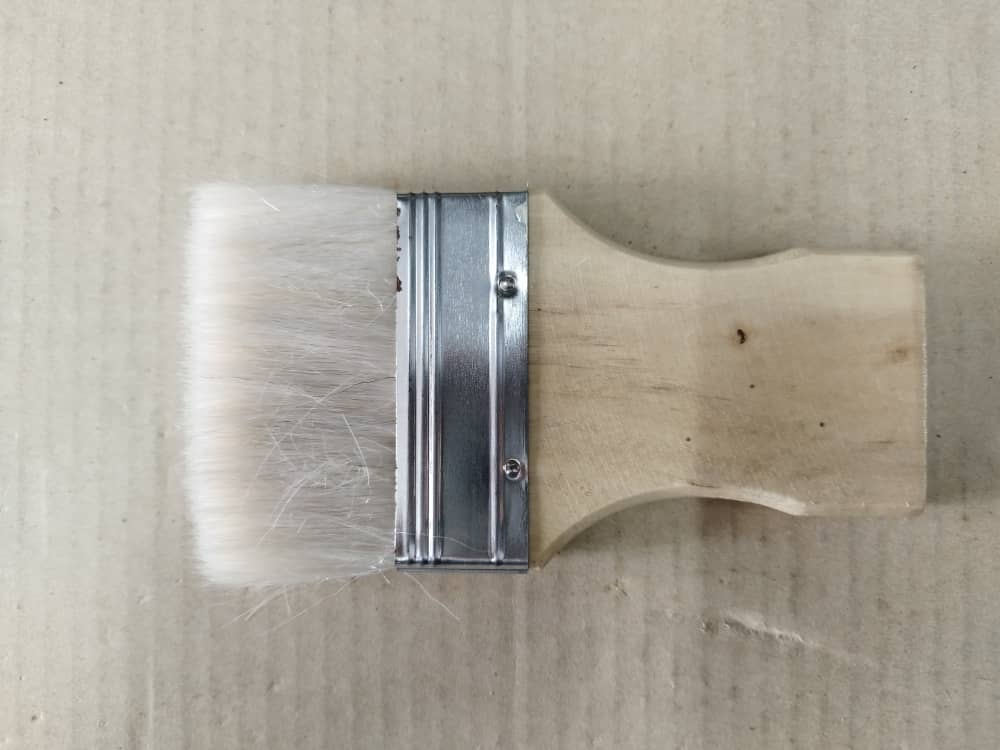sku_medium_brush: (177, 181, 933, 576)
